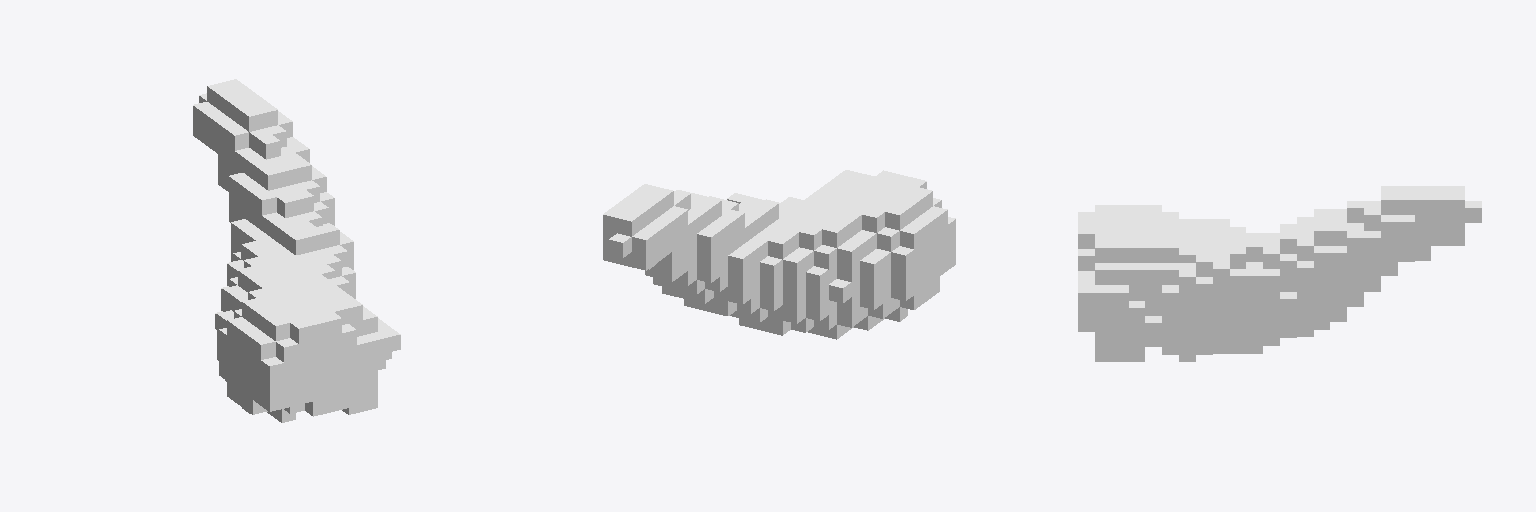
The model's file is mineways_tri.obj.
The picture shows the model from 3 angles: view 1: azimuth 30°, elevation 25°; view 2: azimuth 150°, elevation 25°; view 3: azimuth 270°, elevation 25°; orthographic projection.
Visible parts, largest first — view 1: mine_rtx__351_14_-314_to_364_29_-287; view 2: mine_rtx__351_14_-314_to_364_29_-287; view 3: mine_rtx__351_14_-314_to_364_29_-287.
Part boxes in pixels (bbox=[...]): mine_rtx__351_14_-314_to_364_29_-287: bbox=[193, 79, 400, 422]; mine_rtx__351_14_-314_to_364_29_-287: bbox=[603, 170, 955, 339]; mine_rtx__351_14_-314_to_364_29_-287: bbox=[1078, 186, 1481, 361].
Size of the model in its own units: 1.2 by 1.2 by 2.4.